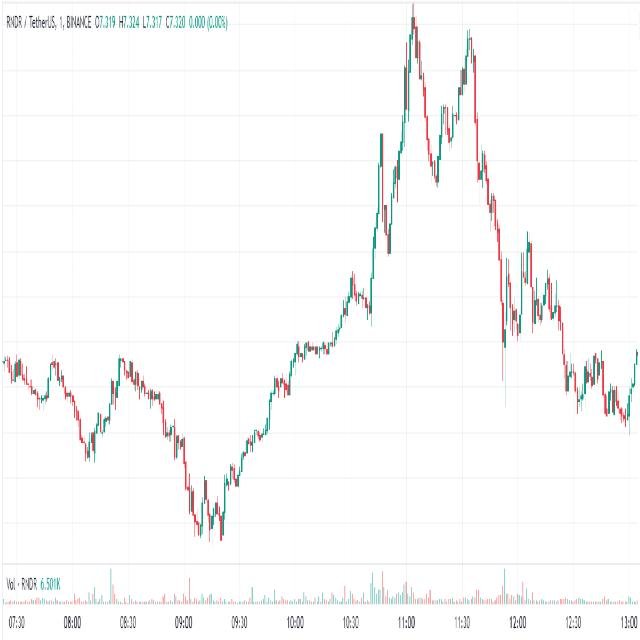Double-Top: (397, 8, 491, 246)
Head-Shoulders: (335, 0, 572, 448), (436, 32, 491, 225)
Triangle: (495, 191, 580, 385)
